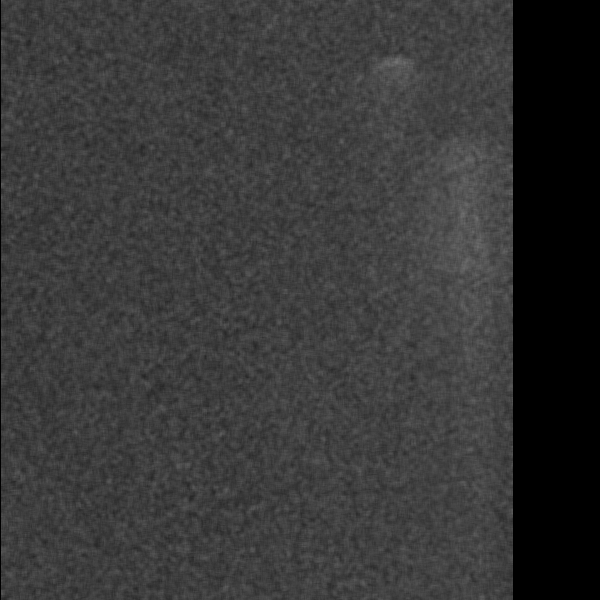spark: (432, 145, 452, 348), (371, 52, 412, 78)
